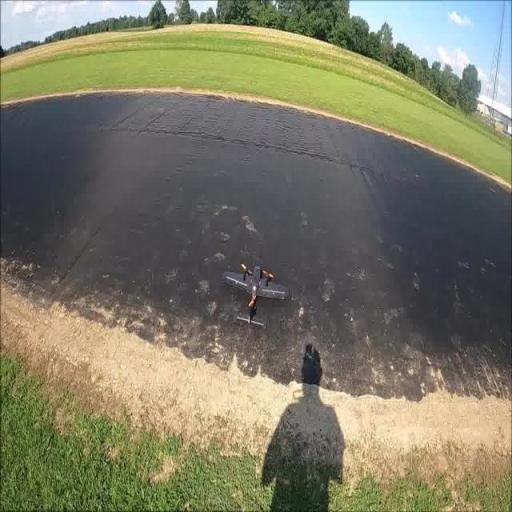uav: (222, 254, 290, 338)
